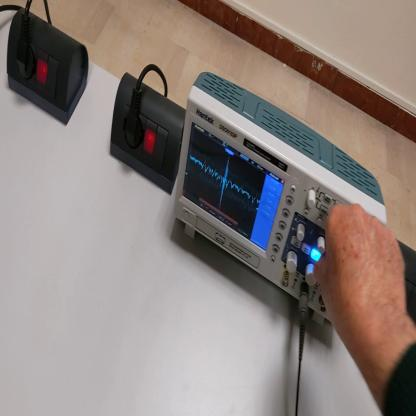hand: (314, 202, 409, 357)
oscilloscope: (175, 71, 389, 328)
socket: (107, 71, 187, 199), (5, 7, 90, 124)
